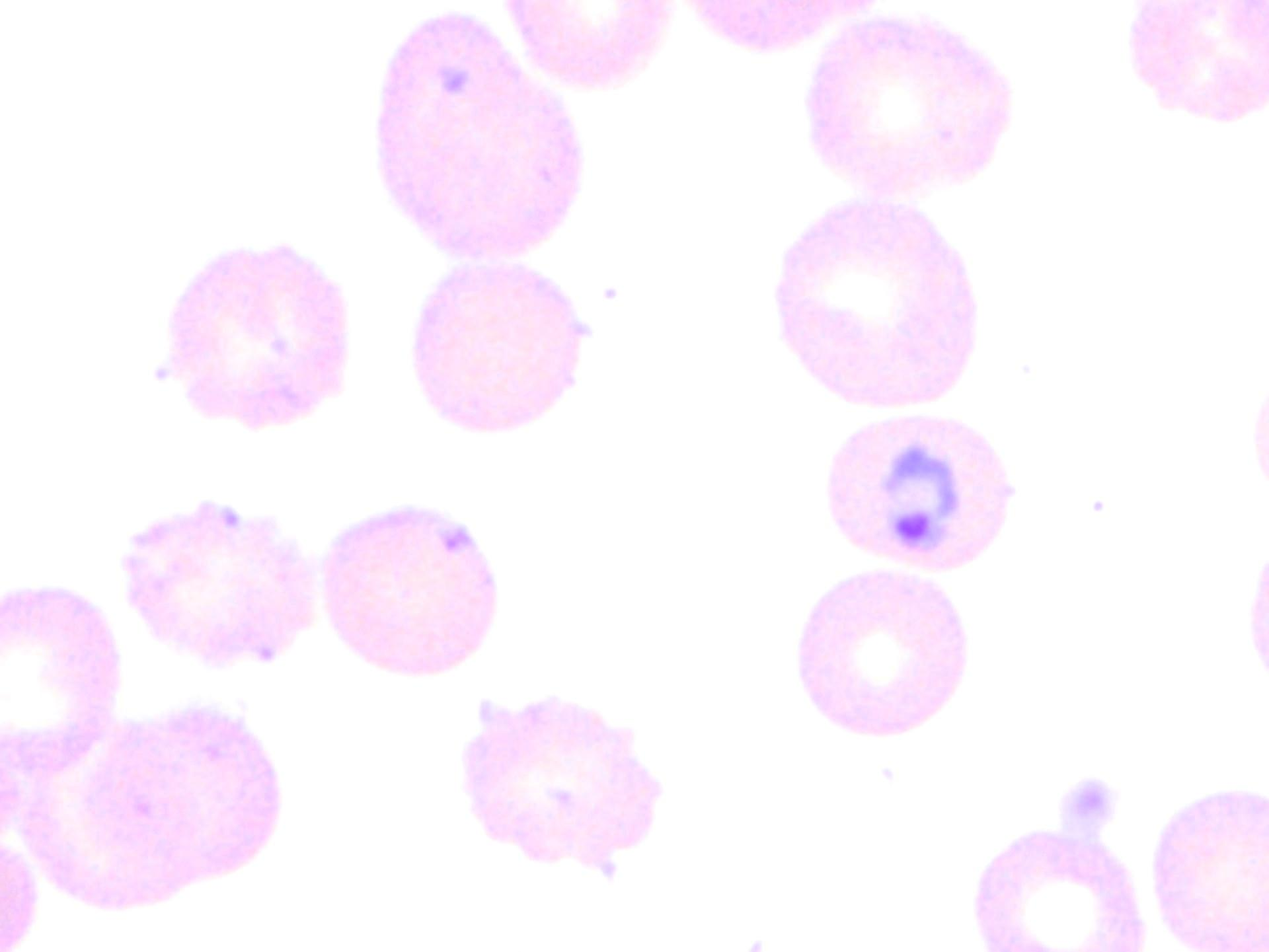Infected: (826, 418, 1015, 572)
Uninfected: (370, 12, 578, 257), (773, 205, 976, 409), (810, 18, 1015, 205), (459, 687, 661, 870), (99, 709, 286, 888), (165, 243, 352, 421), (126, 506, 324, 662), (319, 511, 497, 673), (795, 570, 969, 735), (411, 268, 579, 428), (18, 758, 194, 905), (975, 821, 1150, 952), (0, 590, 118, 784)
